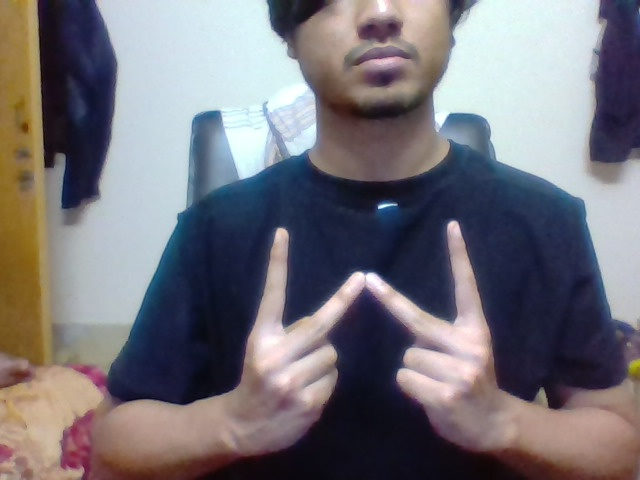W: (252, 218, 489, 332)
